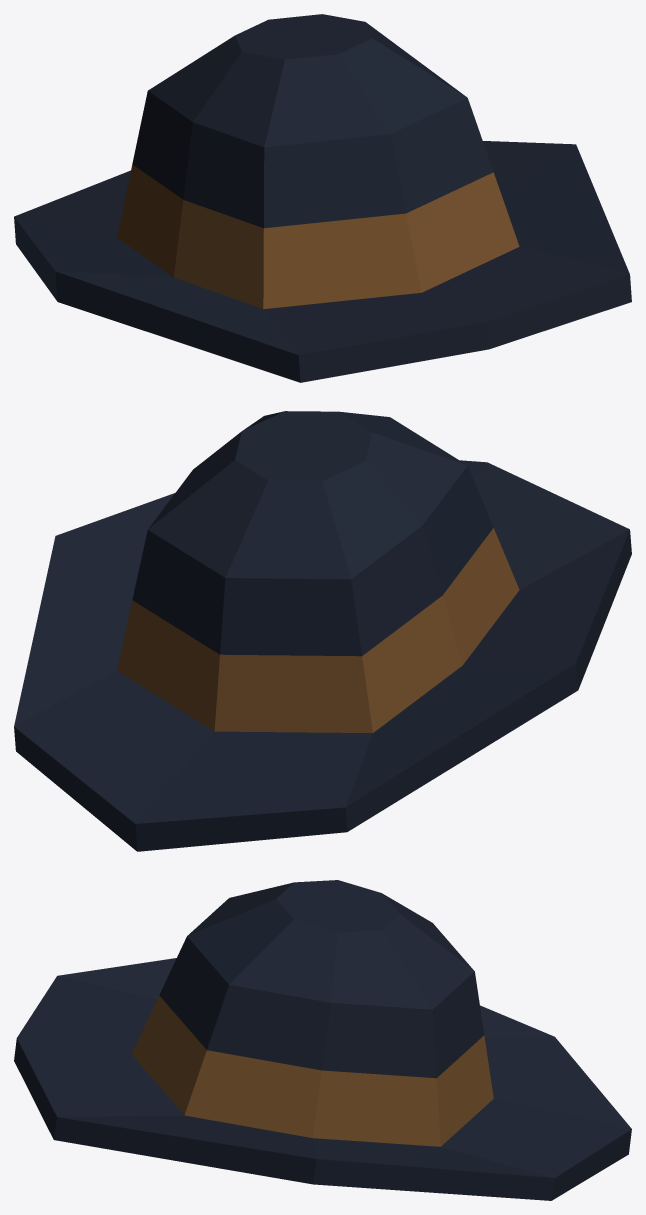
Rendered from Sheriff_Hat.fbx.
3 renders of one model, top to bottom at view 1: azimuth 30°, elevation 25°; view 2: azimuth 150°, elevation 25°; view 3: azimuth 270°, elevation 25°, orthographic. The views are drawn at different scales.
Parts seen in each view (by area): view 1: Sheriff_Hat; view 2: Sheriff_Hat; view 3: Sheriff_Hat.
Part boxes in pixels (x1,y1,x2,y2): Sheriff_Hat: [14, 14, 631, 382]; Sheriff_Hat: [14, 411, 631, 851]; Sheriff_Hat: [14, 880, 631, 1200].
Bounding box in the file's own units: 29.43 × 15.8 × 34.61.
